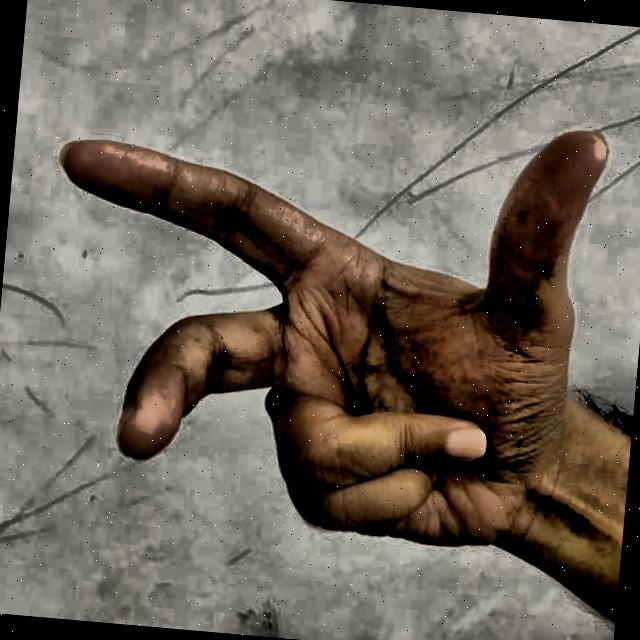Da: (7, 47, 630, 621)
